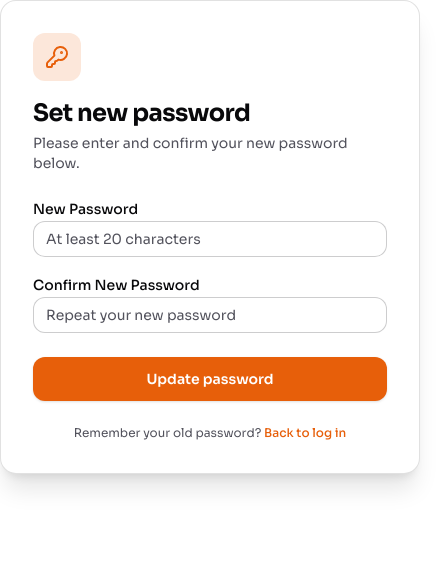
it: UpdatePasswordForm Component › displays error alert when supabase.auth.updateUser fails
This screenshot has width=437, height=570.
In the password field labelled "New Password": [210, 239] box [33,221,387,257], type "this is a very long valid password sentence 123"
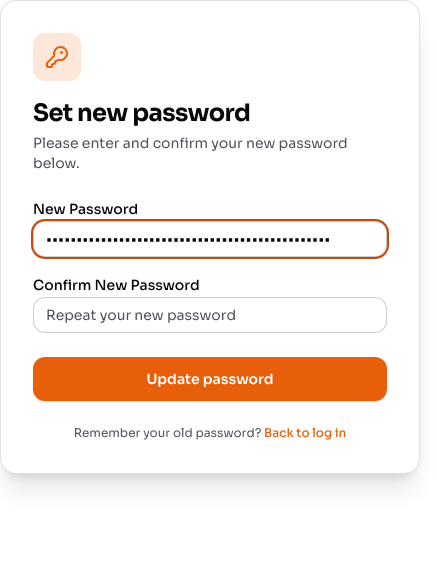
In the password field labelled "Confirm New Password": [210, 315] box [33,297,387,333], type "this is a very long valid password sentence 123"
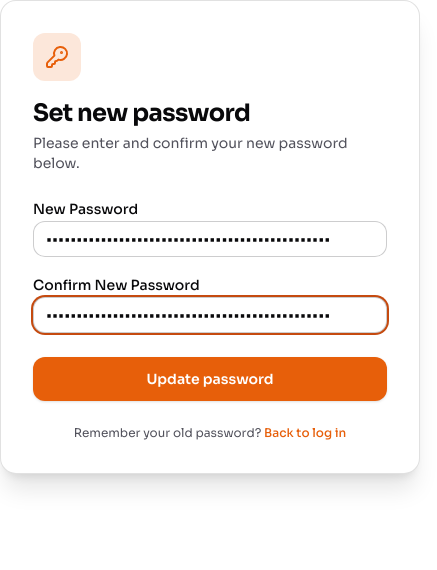
Click the button "Update password": [210, 379] box [33,357,387,401]
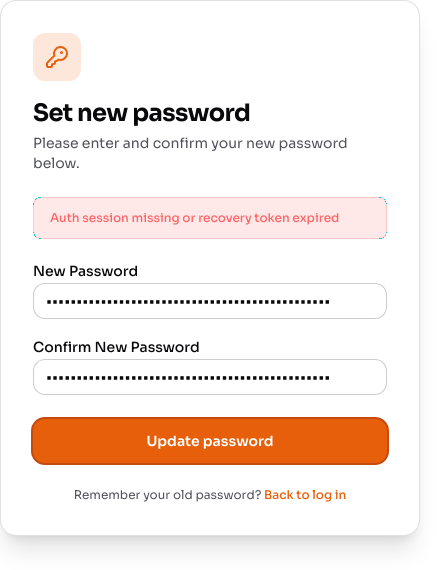
Expected: the text "Auth session missing or recovery token expired" is shown, [33,197,387,239]
